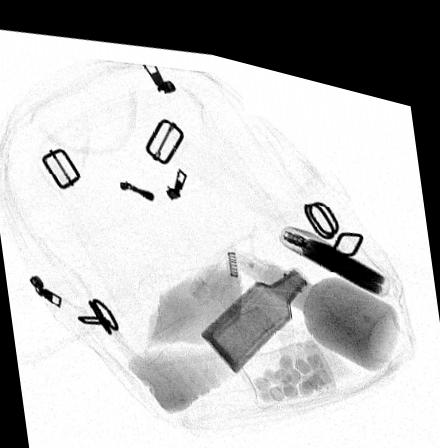Powerbank: (278, 210, 390, 277)
